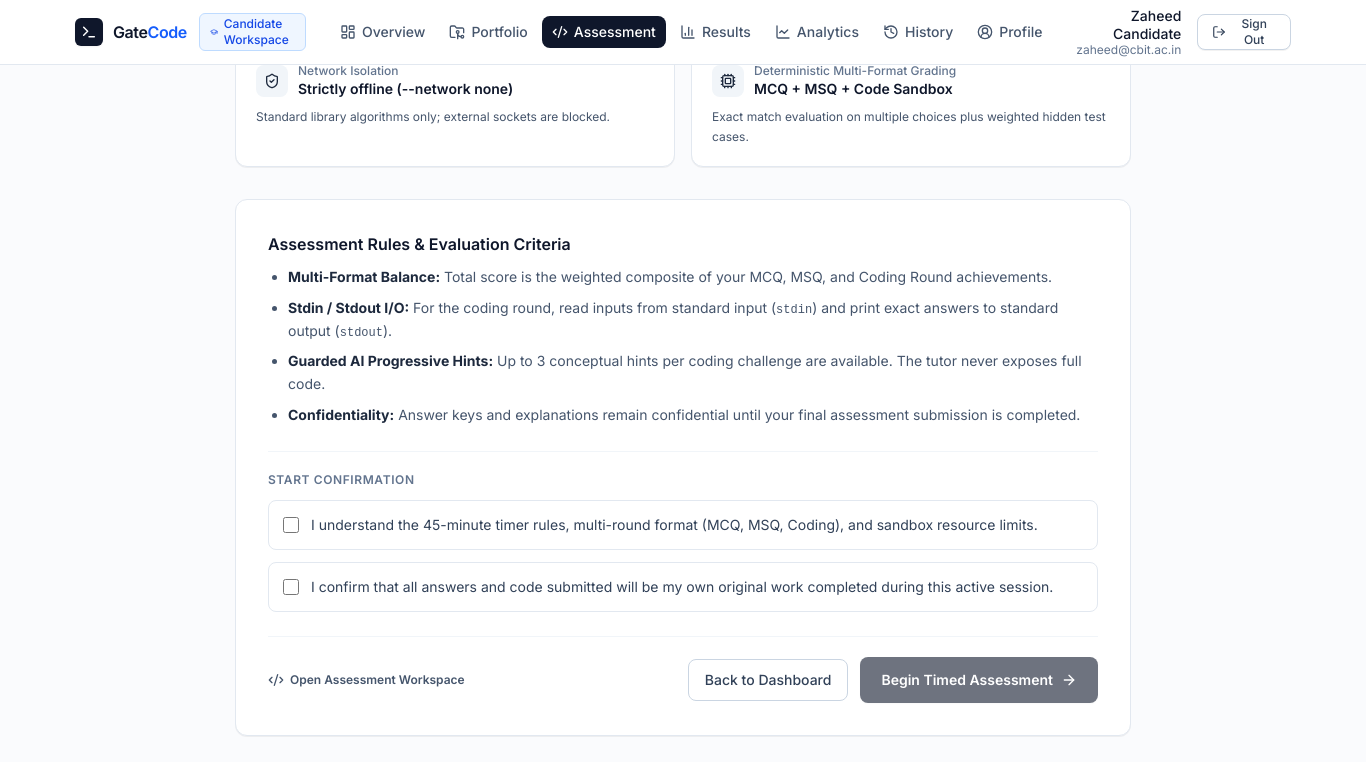
Test: Personalized Technical Assessment & Coding Workspace Frontend › renders assessment instructions with duration, question count, allowed languages, rules, timer info, and gates start behind confirmation
(page scrolled)
Expected: the heading "Assessment Rules & Evaluation Criteria" is shown, [268,234,571,254]
Expected: the button "Begin Timed Assessment" is disabled, [860,656,1098,702]
What coordinates should you click on to do the following:
click the 1st checkbox
I would click on:
 (291, 524)
Its box is [283,516,299,532].
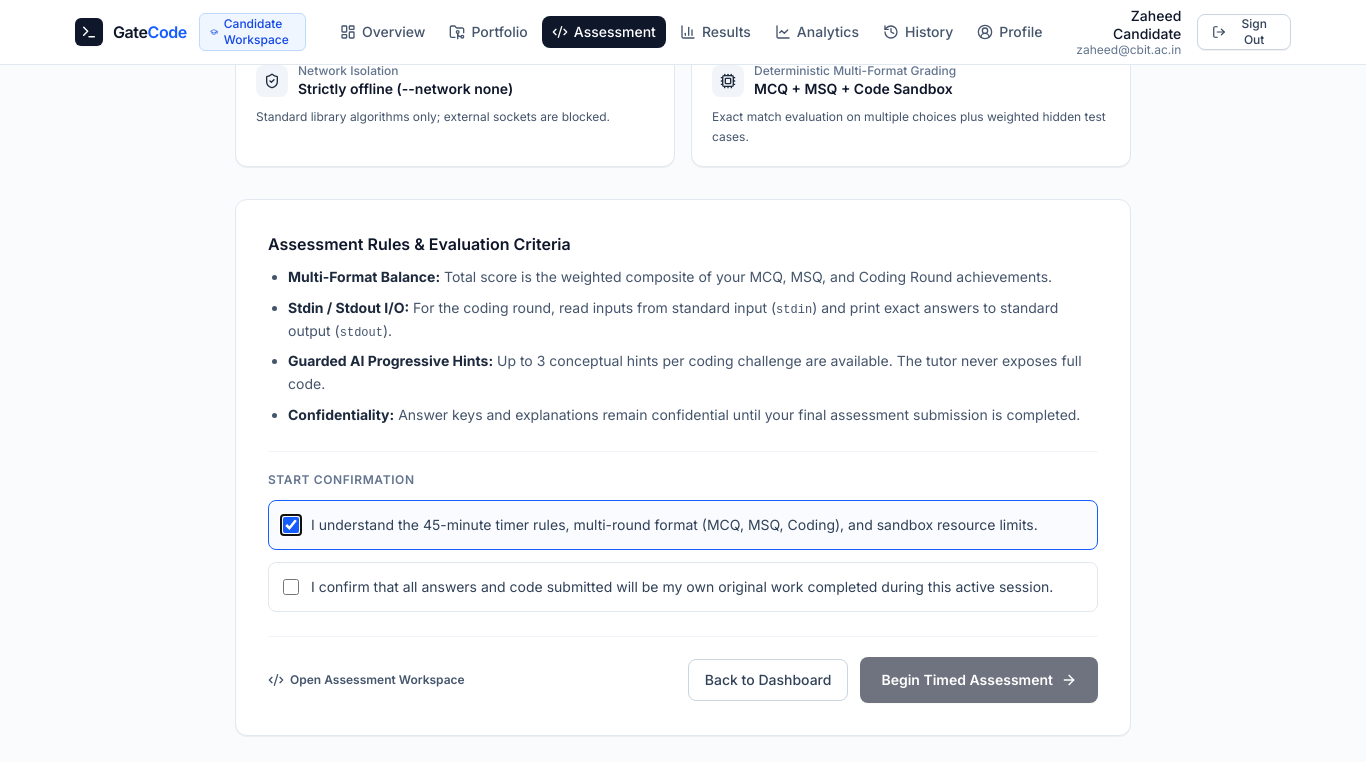
Expected: the button "Begin Timed Assessment" is disabled, [860,656,1098,702]
What coordinates should you click on to do the following:
click the 2nd checkbox
I would click on:
 (291, 586)
Its box is [283,578,299,594].
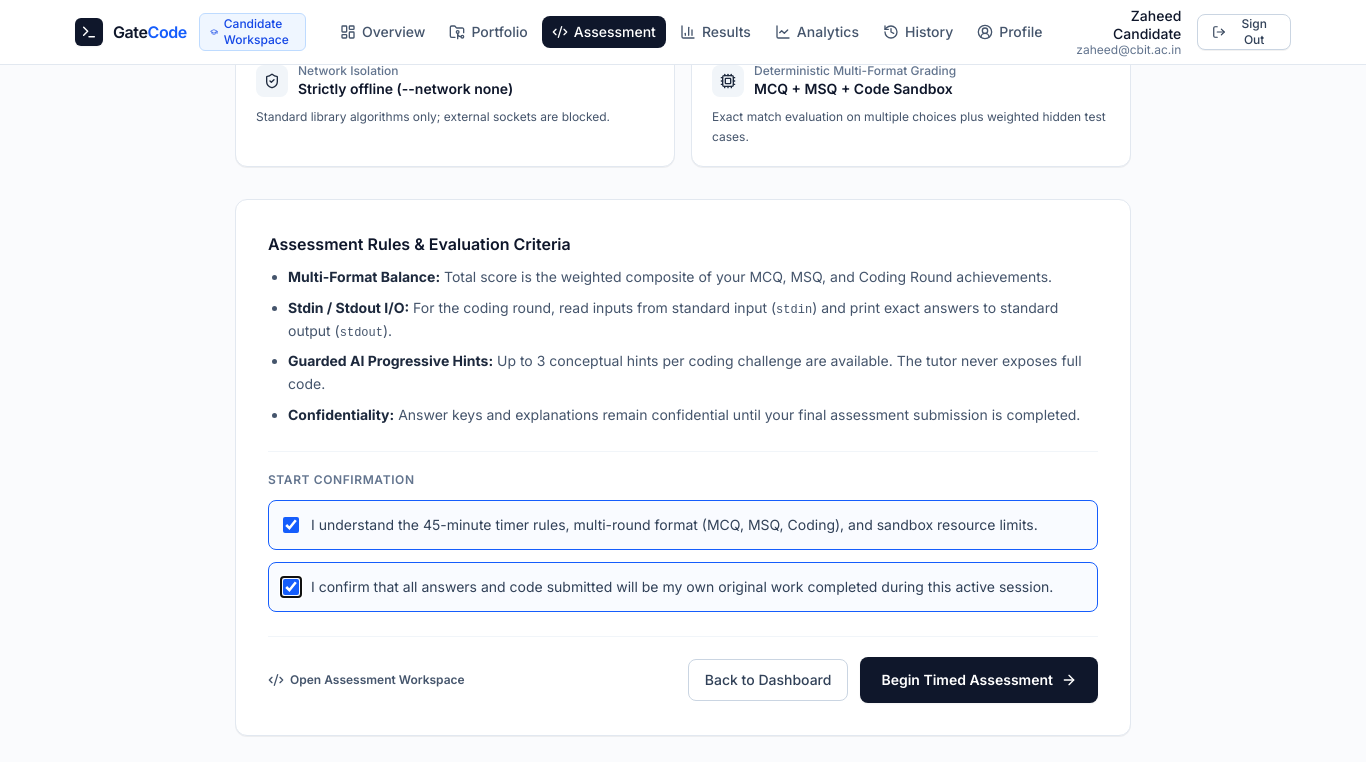
Result: the button "Begin Timed Assessment" is enabled
What coordinates should you click on to do the following:
click the button "Begin Timed Assessment"
I would click on:
 (979, 680)
Its box is [860,656,1098,702].
(page scrolled)
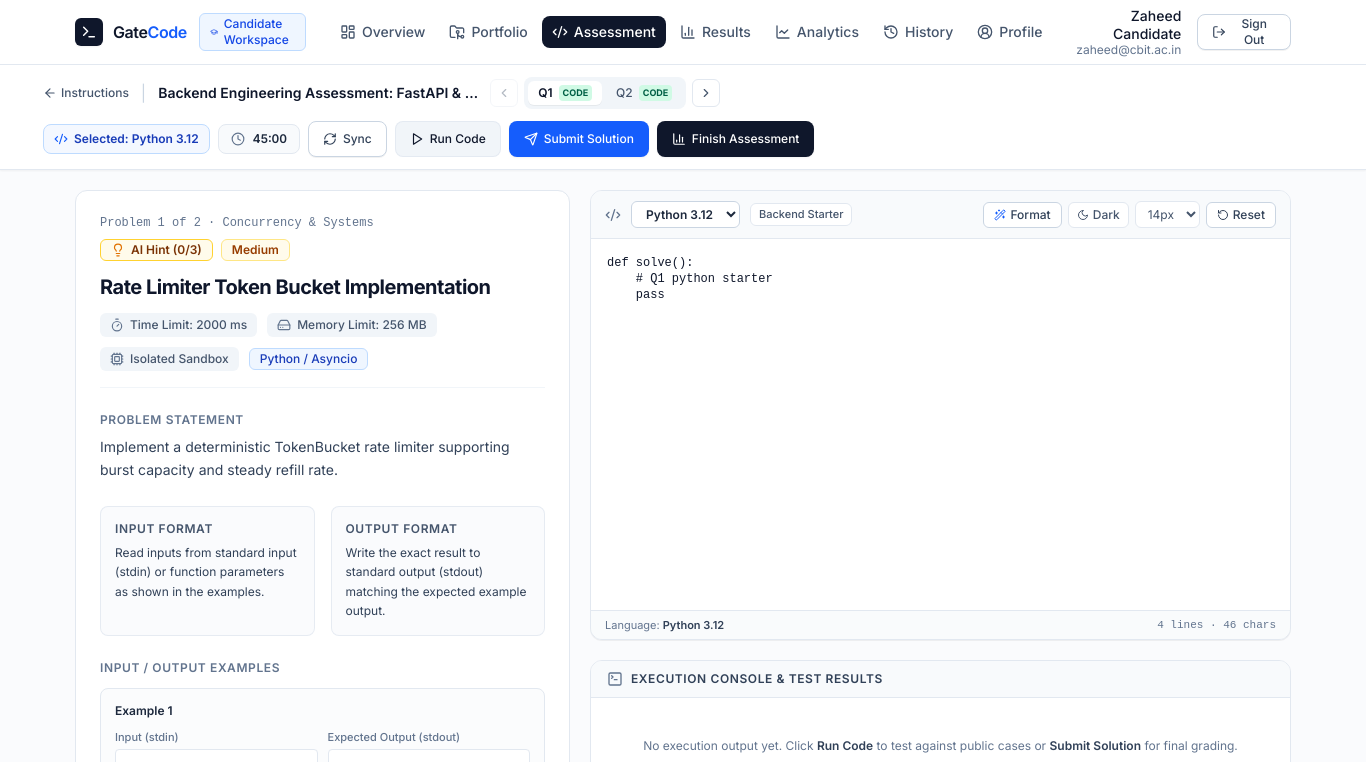
Result: the heading "Rate Limiter Token Bucket Implementation" is shown at [100,273,545,301]
